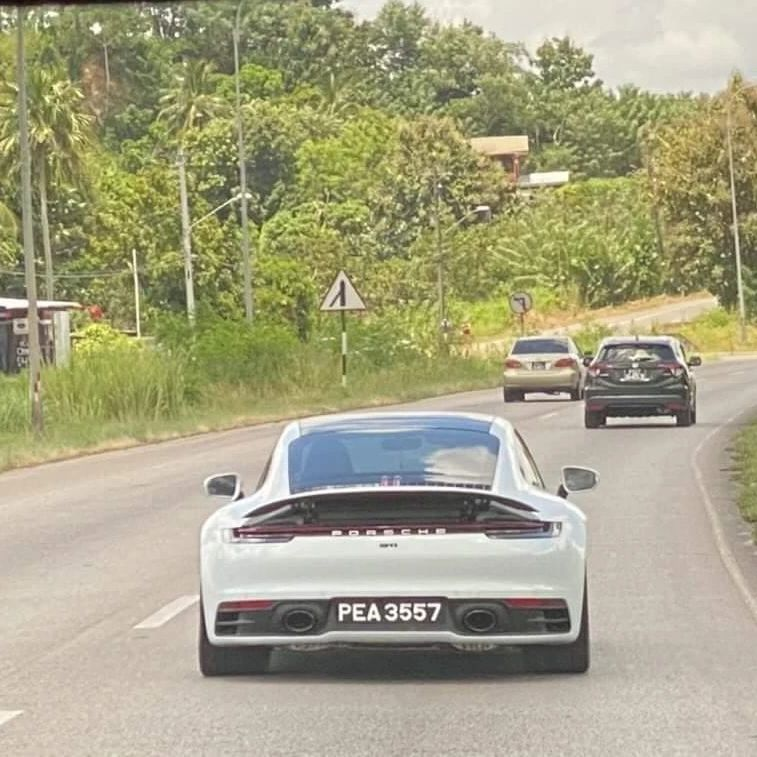License-Plate: (335, 600, 444, 623)
